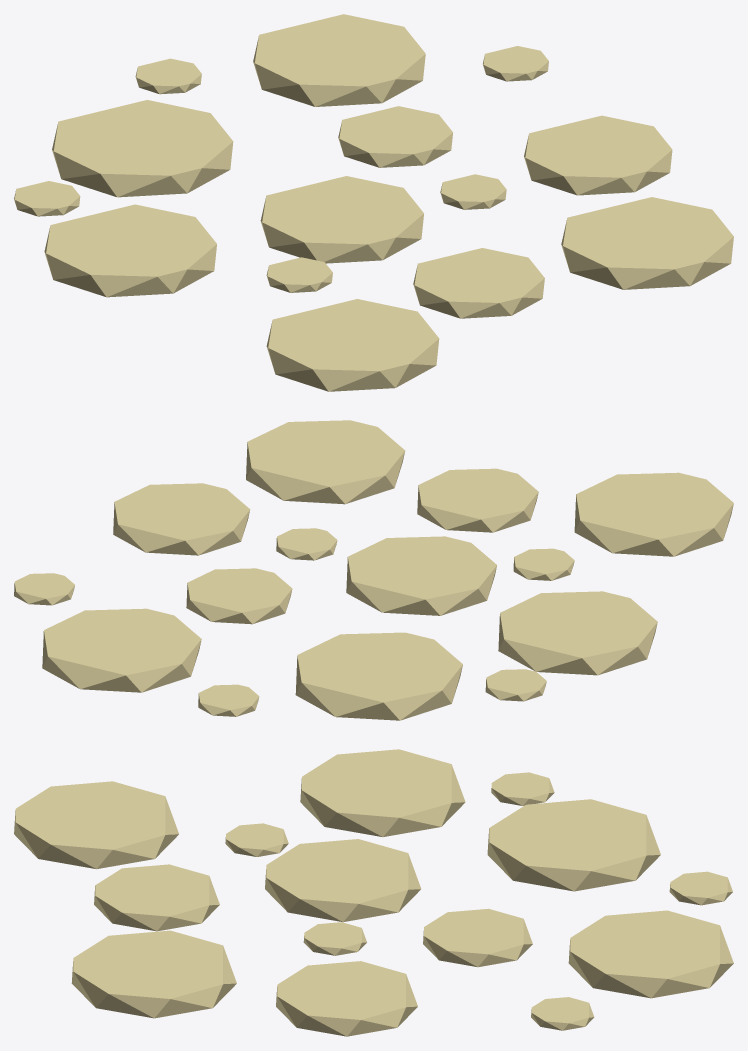
File: Path.fbx
3 views of the same model, one above another, from view 1: azimuth 30°, elevation 25°; view 2: azimuth 150°, elevation 25°; view 3: azimuth 270°, elevation 25° (orthographic). The views are drawn at different scales.
Visible parts, largest first — view 1: Cylinder; view 2: Cylinder; view 3: Cylinder.
Part boxes in pixels (box(x1,y1,x2,y2)): Cylinder: box(14, 14, 733, 391); Cylinder: box(14, 420, 733, 720); Cylinder: box(14, 749, 733, 1036).
Bounding box in the file's own units: 327 × 11.09 × 368.
